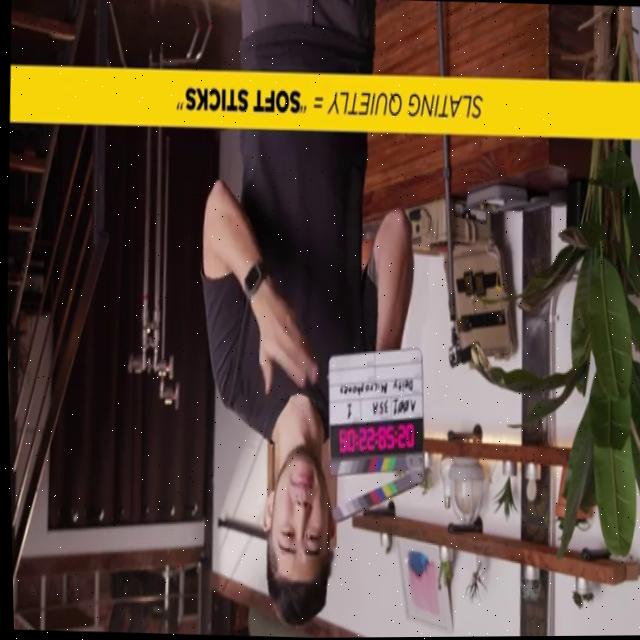Clapperboard: (316, 343, 432, 529)
